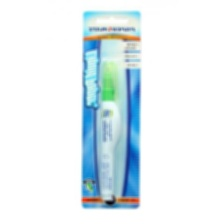book: (79, 8, 143, 210)
correction_fluid: (98, 57, 124, 204)
